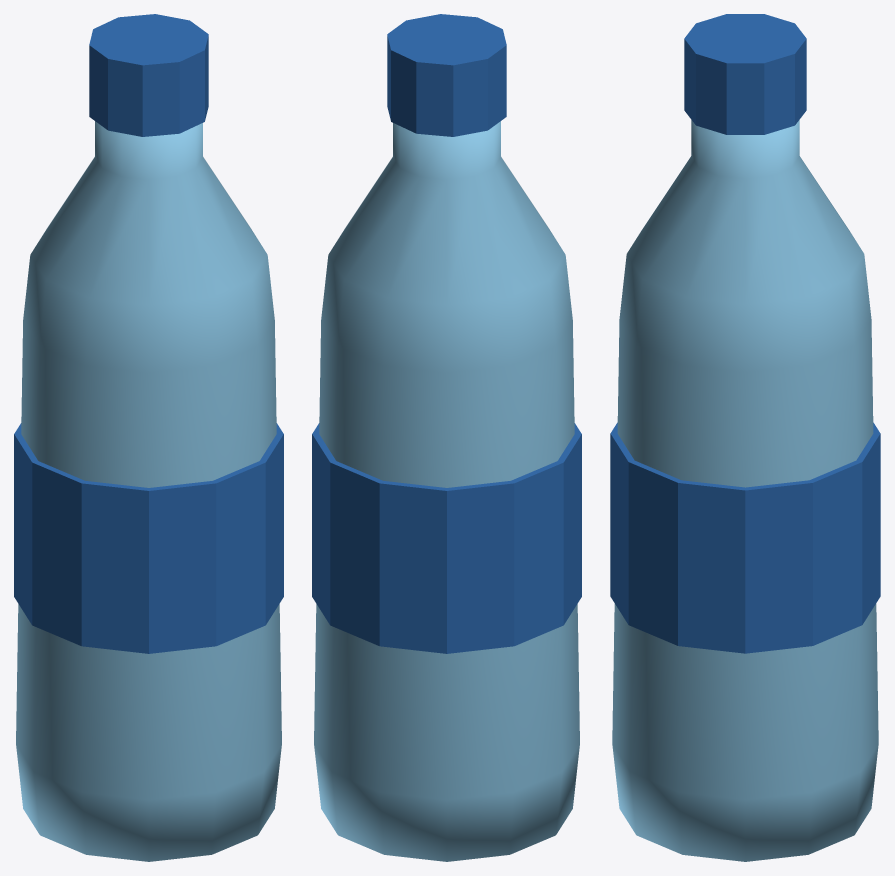
File: PRP_WaterBottle.fbx
3 renders of one model, left to right at view 1: azimuth 30°, elevation 25°; view 2: azimuth 150°, elevation 25°; view 3: azimuth 270°, elevation 25°, orthographic.
Parts seen in each view (by area): view 1: PRP_WaterBottle; view 2: PRP_WaterBottle; view 3: PRP_WaterBottle.
Part boxes in pixels (x1=…): PRP_WaterBottle: x1=14, y1=14, x2=283, y2=861; PRP_WaterBottle: x1=312, y1=14, x2=581, y2=861; PRP_WaterBottle: x1=610, y1=14, x2=880, y2=861.
Bounding box in the file's own units: 0.075 × 0.236 × 0.075.
